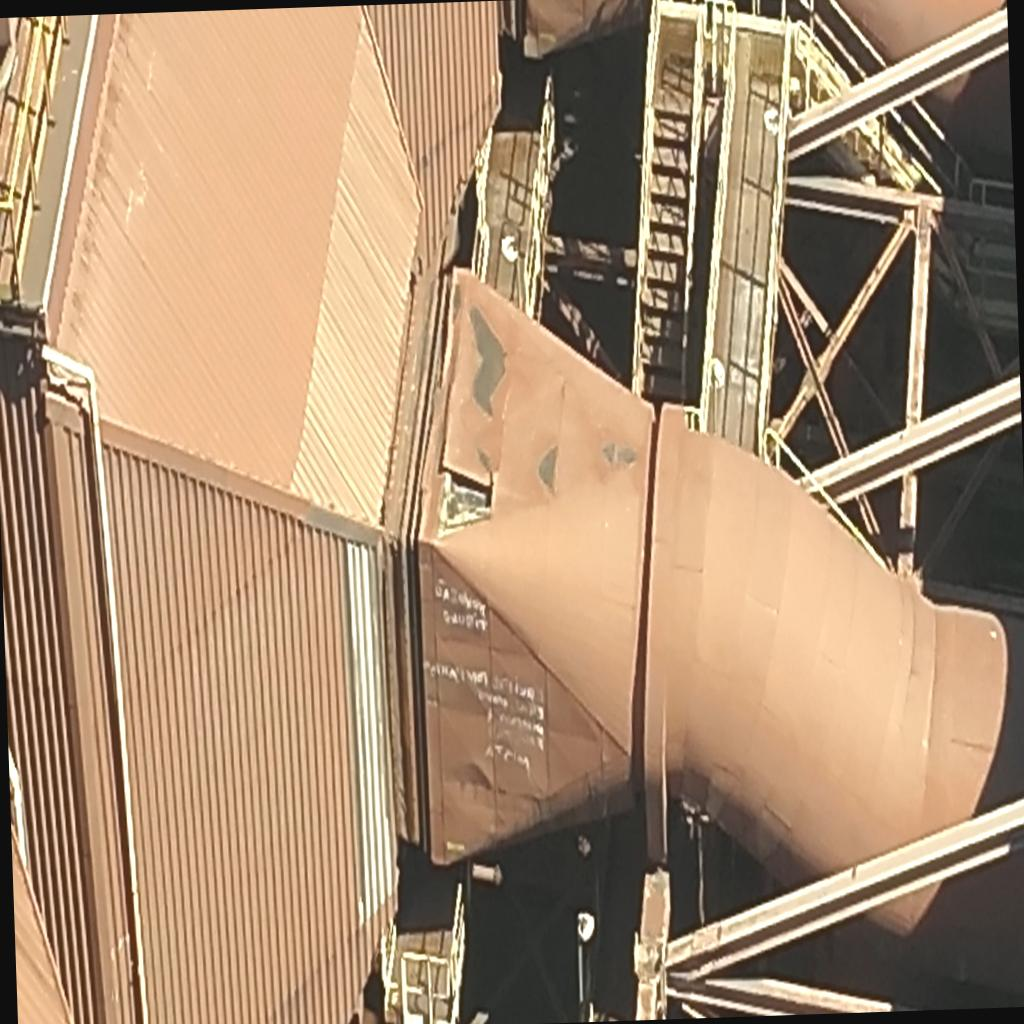Failures: (435, 451, 492, 548)
